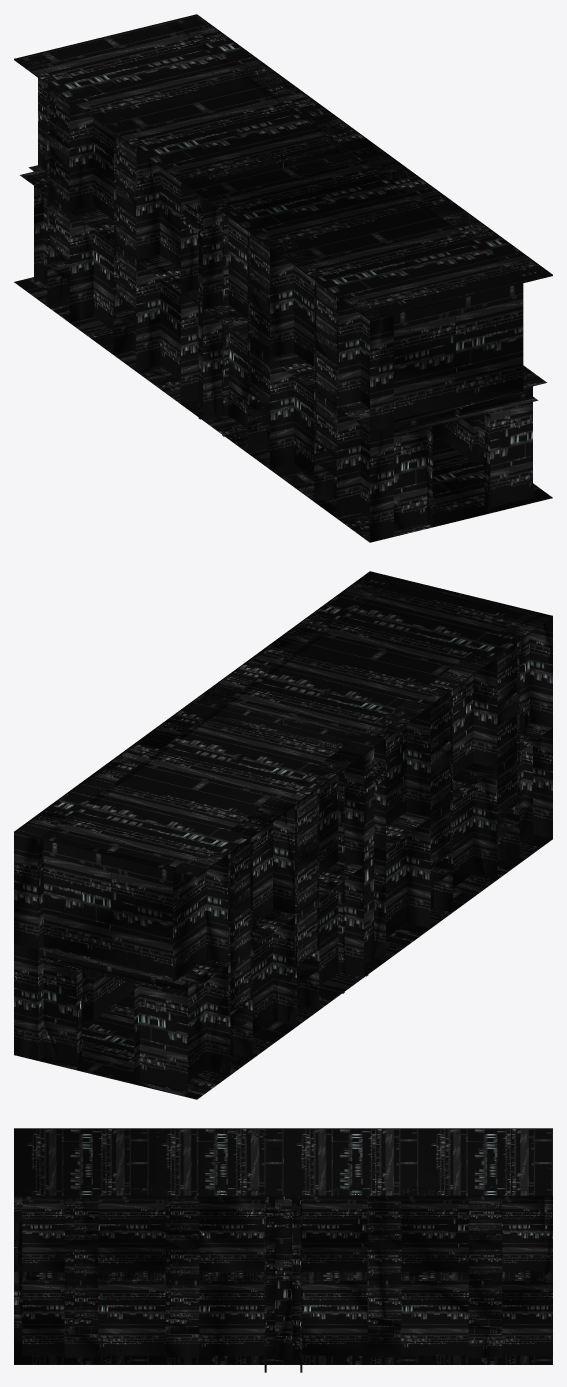
The model's file is room2tesla_opt.obj.
3 renders of one model, top to bottom at view 1: azimuth 30°, elevation 25°; view 2: azimuth 150°, elevation 25°; view 3: azimuth 270°, elevation 25°, orthographic. The views are drawn at different scales.
Bounding box in the file's own units: 30.4 × 39.32 × 102.
Materials: 12 (12 with a texture image).
